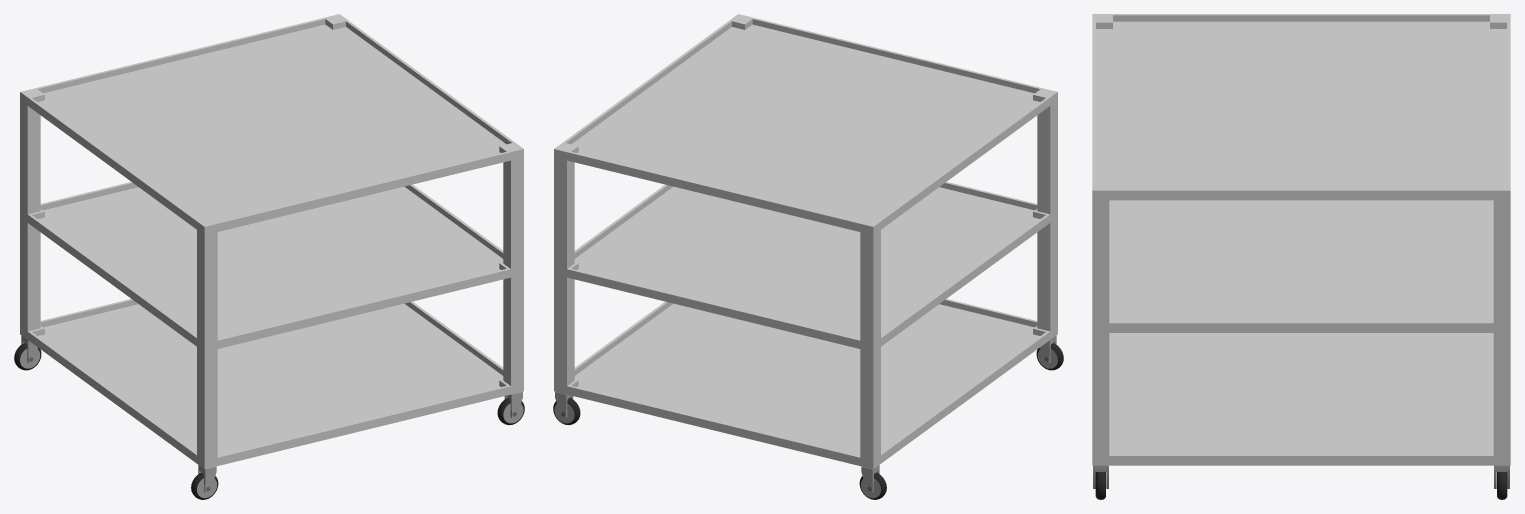
The model's file is shelvesshort1.FBX.
3 renders of one model, left to right at view 1: azimuth 30°, elevation 25°; view 2: azimuth 150°, elevation 25°; view 3: azimuth 270°, elevation 25°, orthographic. The views are drawn at different scales.
Visible parts, largest first — view 1: TableShelf_Short; view 2: TableShelf_Short; view 3: TableShelf_Short.
Boxes of the visible parts, x1,y1,x2,y2 form: TableShelf_Short: (20,14,523,469); TableShelf_Short: (554,14,1057,469); TableShelf_Short: (1092,14,1510,465).
Size of the model in its own units: 125 by 99.02 by 120.
